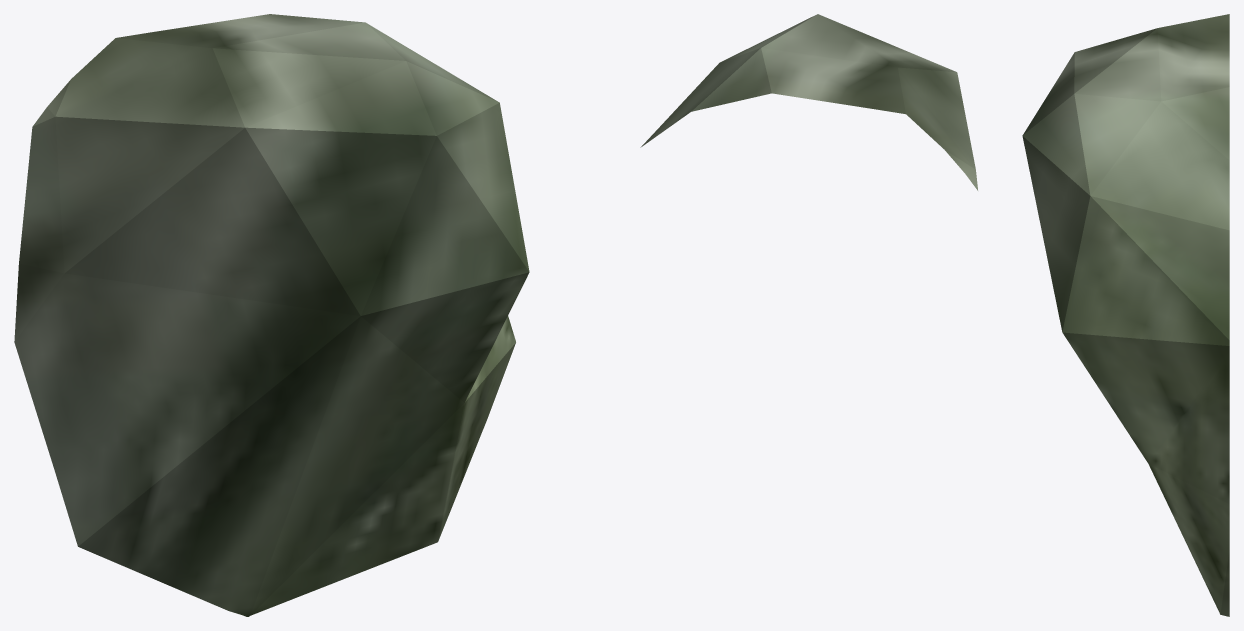
3 views of the same model, side by side, from view 1: azimuth 30°, elevation 25°; view 2: azimuth 150°, elevation 25°; view 3: azimuth 270°, elevation 25° (orthographic). The views are drawn at different scales.
Bounding box in the file's own units: 0.4729 × 0.5586 × 0.206.
1 material, 1 textured.
